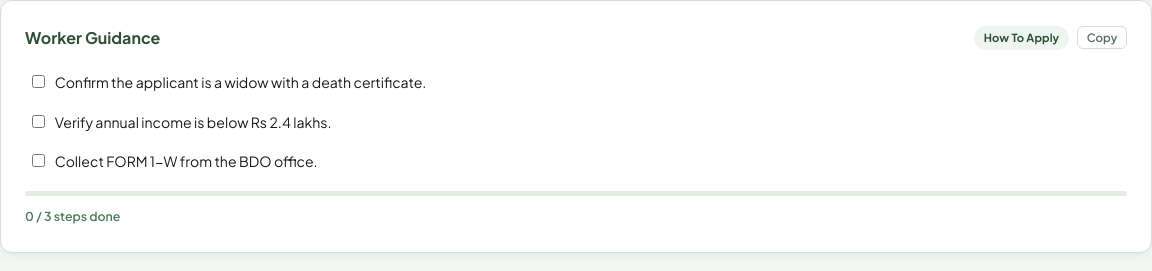
it: WorkerGuidanceCard › shows completion message when all items checked
Click the checkbox labelled "Confirm the applicant is a widow with a death certificate." at (39, 82), box x1=32 y1=75 x2=45 y2=88
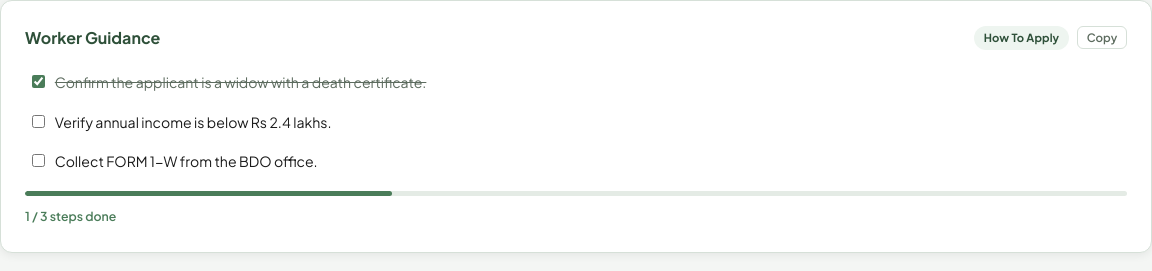
Click the checkbox labelled "Verify annual income is below Rs 2.4 lakhs." at (39, 121), box x1=32 y1=115 x2=45 y2=128
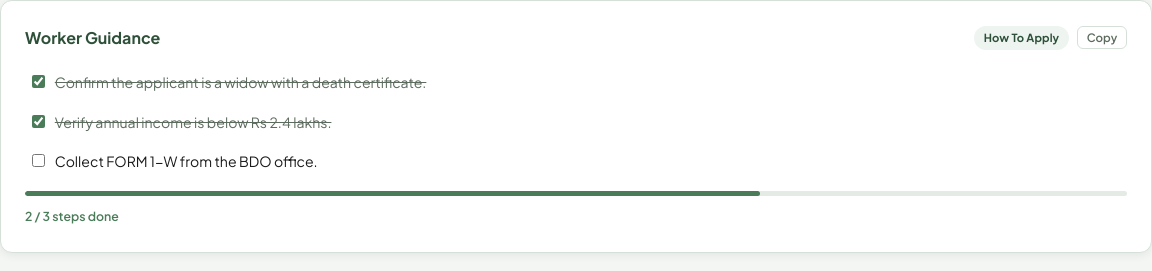
Click the checkbox labelled "Collect FORM 1-W from the BDO office." at (39, 161), box x1=32 y1=154 x2=45 y2=167
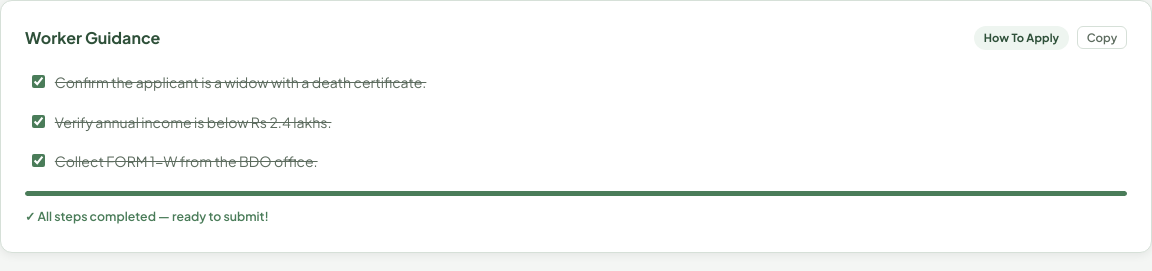
Now the text "✓ All steps completed — ready to submit!" is shown, box x1=25 y1=208 x2=269 y2=224
